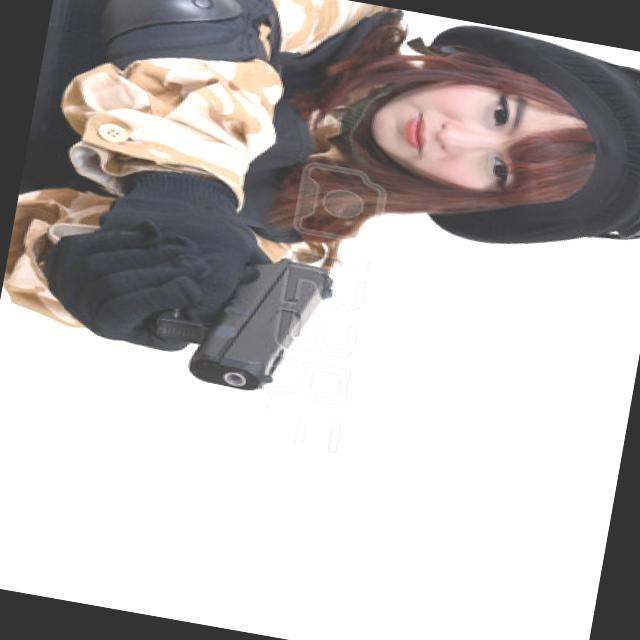handgun: (142, 232, 337, 401)
